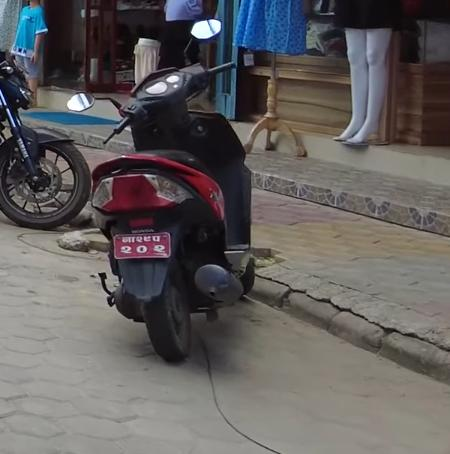scooter: (63, 16, 269, 369)
